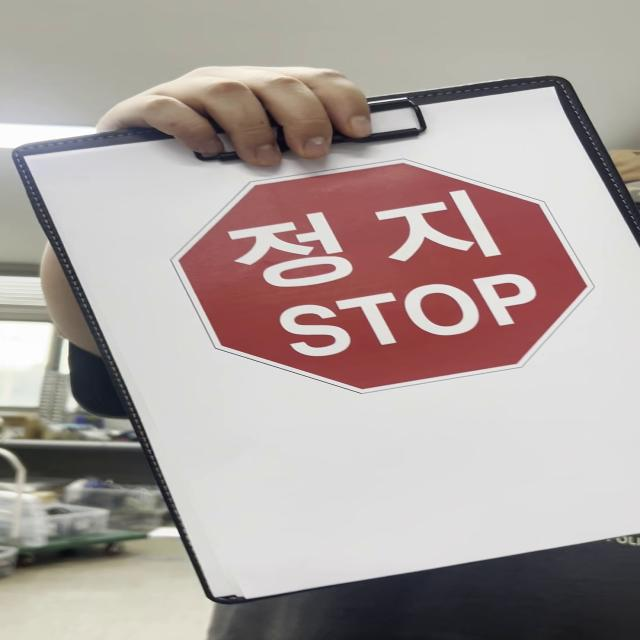stop: (167, 159, 601, 389)
